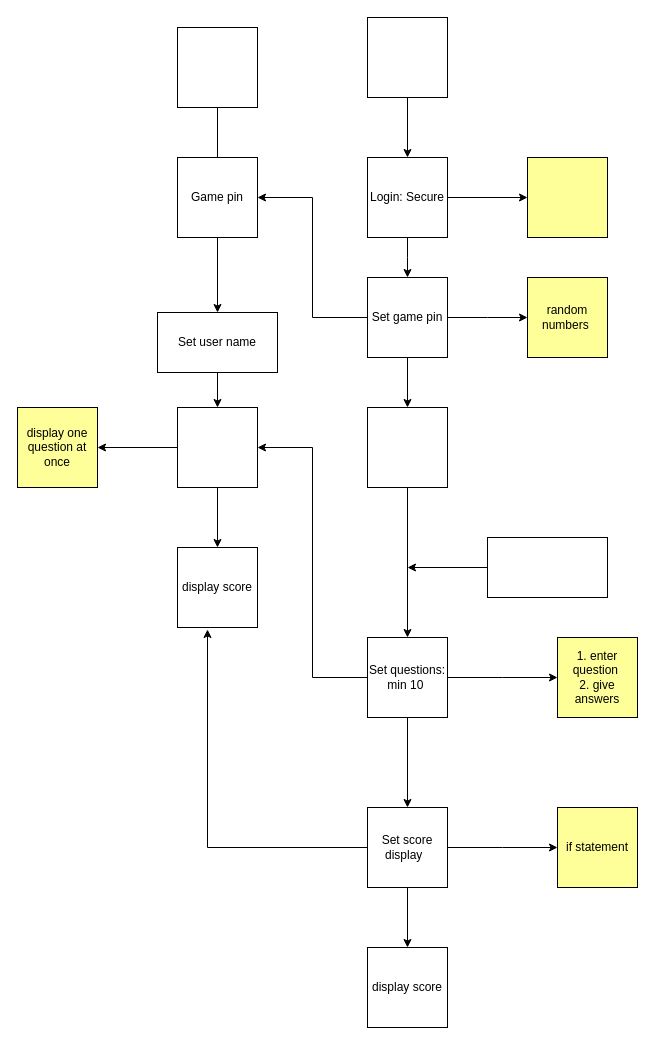
This 655x1045 diagram has some shape labels left out. Each missing label, with the centre of its shape:
1. username and password: (x=567, y=197)
display sample page: (x=547, y=567)
Displays a question set by the Quiz master: (x=217, y=447)
Play: (x=217, y=67)
Quiz Master: (x=407, y=57)
set game name: (x=407, y=447)
